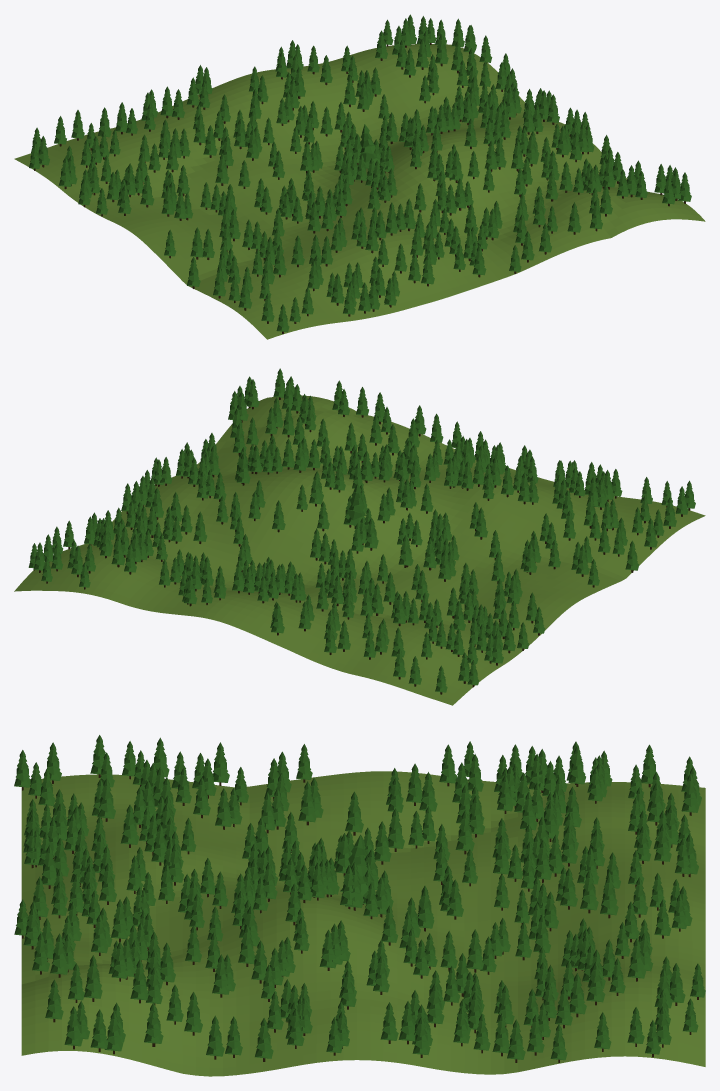
Rendered from terrain2.glb.
The picture shows the model from 3 angles, top to bottom: view 1: azimuth 30°, elevation 25°; view 2: azimuth 150°, elevation 25°; view 3: azimuth 270°, elevation 25°; orthographic projection. The views are drawn at different scales.
Visible parts, largest first — view 1: Plane; view 2: Plane; view 3: Plane, tree.
Boxes of the visible parts, box(x1,y1,x2,y2) form: Plane: box(14, 44, 705, 339); Plane: box(14, 395, 705, 705); Plane: box(21, 771, 705, 1076); tree: box(340, 834, 368, 895).
Bounding box in the file's own units: 115 × 19.17 × 114.
